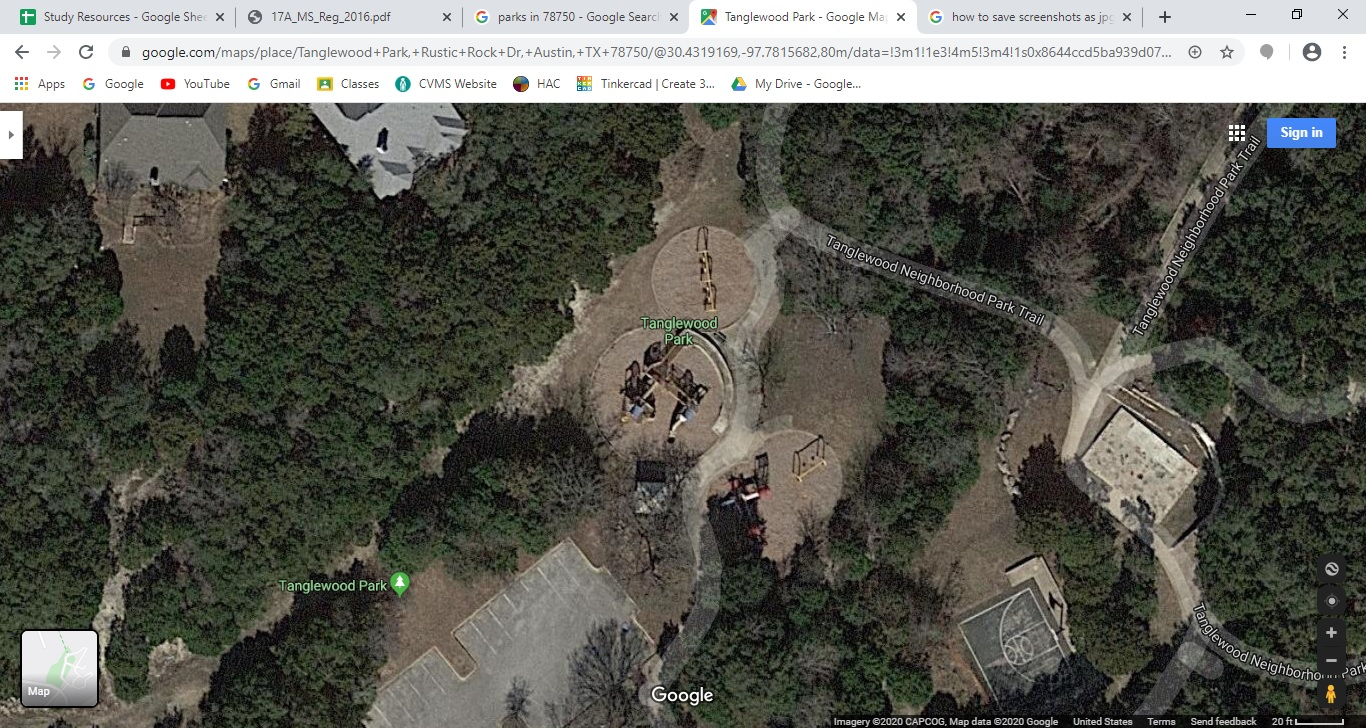basketball: (929, 567, 1141, 716)
playscape: (569, 320, 751, 471)
